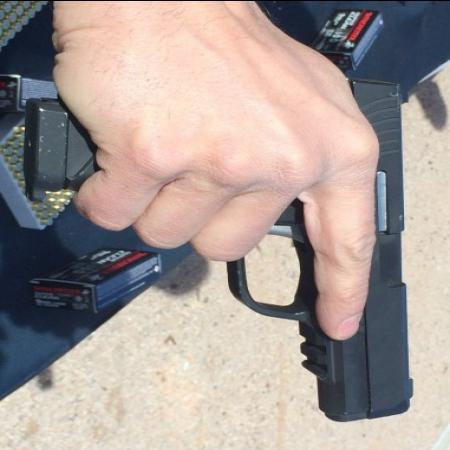Pistol: (26, 74, 422, 422)
